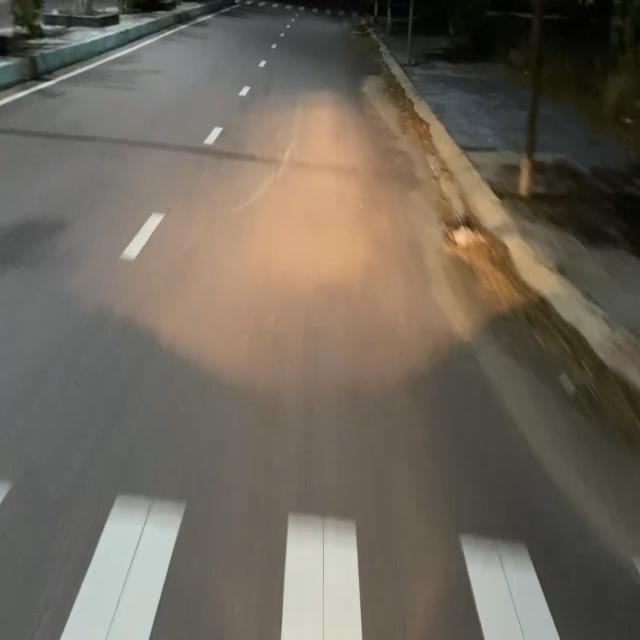walk-crossing: (0, 454, 592, 639)
